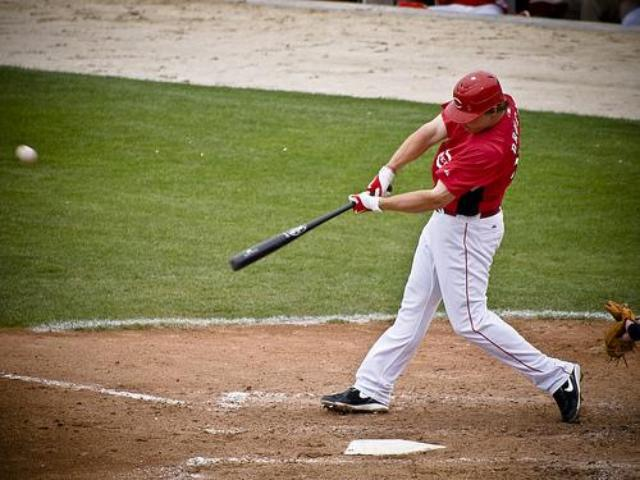baseball bat: (230, 199, 356, 272)
sports ball: (15, 144, 39, 164)
